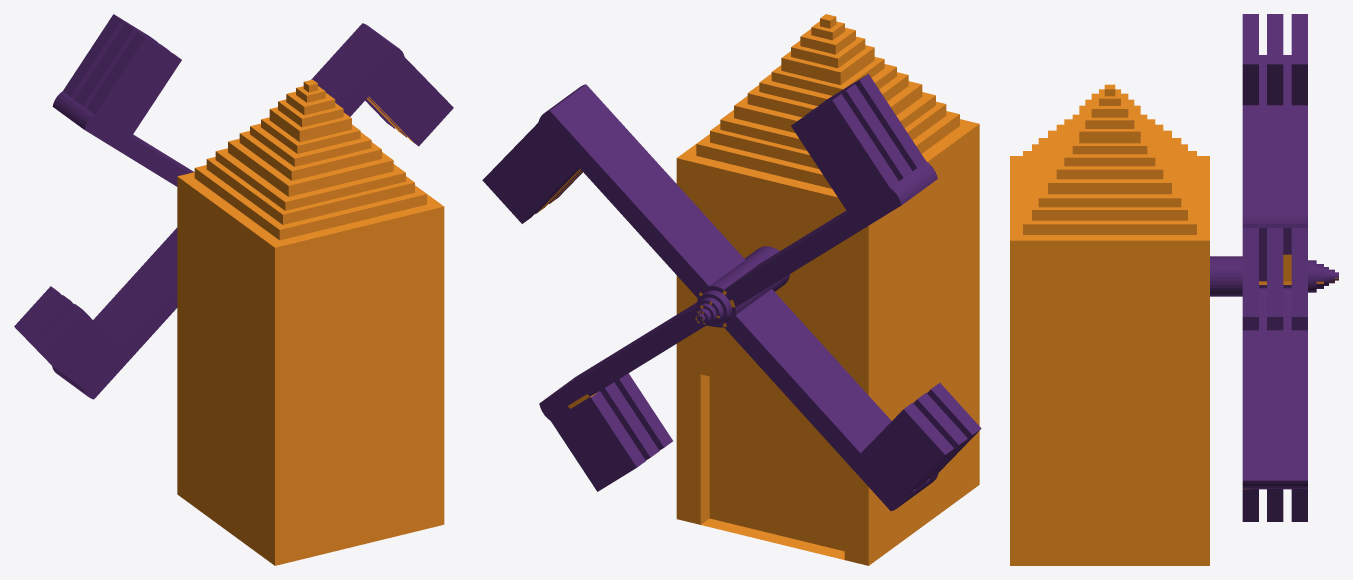
File: Muzeum_1.fbx
3 views of the same model, side by side, from view 1: azimuth 30°, elevation 25°; view 2: azimuth 150°, elevation 25°; view 3: azimuth 270°, elevation 25° (orthographic). The views are drawn at different scales.
Parts seen in each view (by area): view 1: Cube_001; view 2: Cube_001; view 3: Cube_001.
Part boxes in pixels (x1,y1,x2,y2): Cube_001: (14,14,453,565); Cube_001: (482,14,981,565); Cube_001: (1010,14,1338,565).
Size of the model in its own units: 74.99 by 78.91 by 51.18.
Materials: 1 (1 with a texture image).
